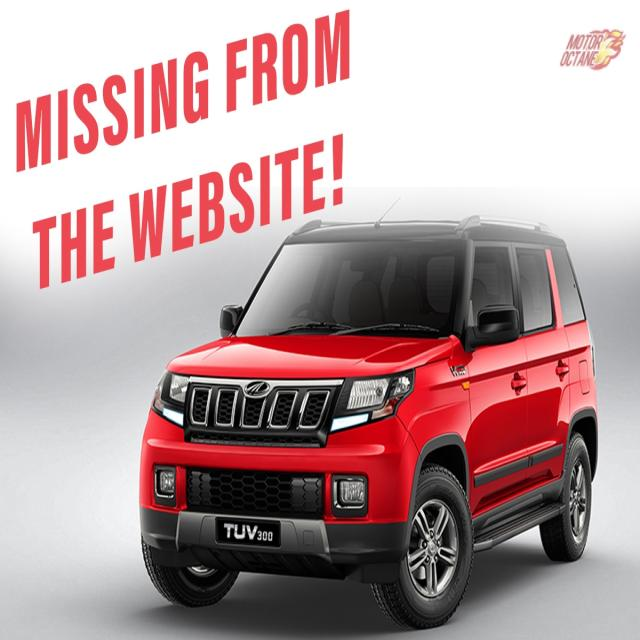light_vehicle: (136, 219, 599, 631)
